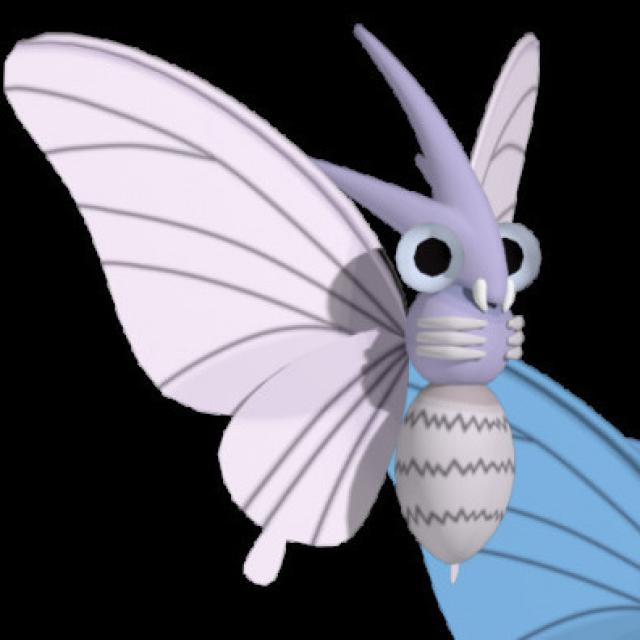Venomoth: (224, 34, 547, 568)
